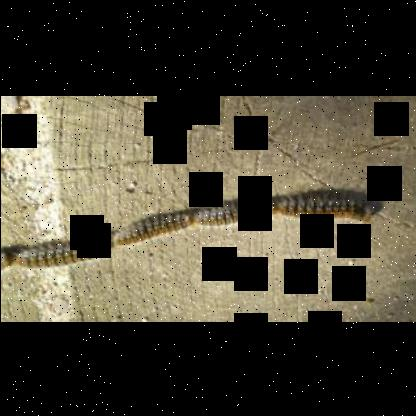oruga: (107, 200, 202, 249), (13, 232, 116, 274), (196, 193, 280, 232), (276, 192, 380, 222), (1, 244, 12, 274)
